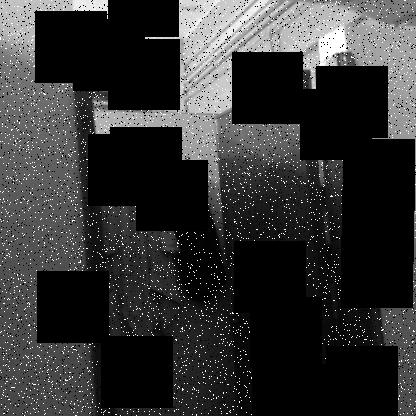Porte: (70, 35, 394, 416)
